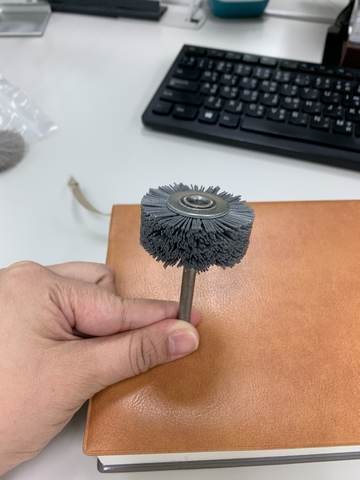Wheel Brush: (140, 171, 259, 299), (134, 182, 256, 289)
